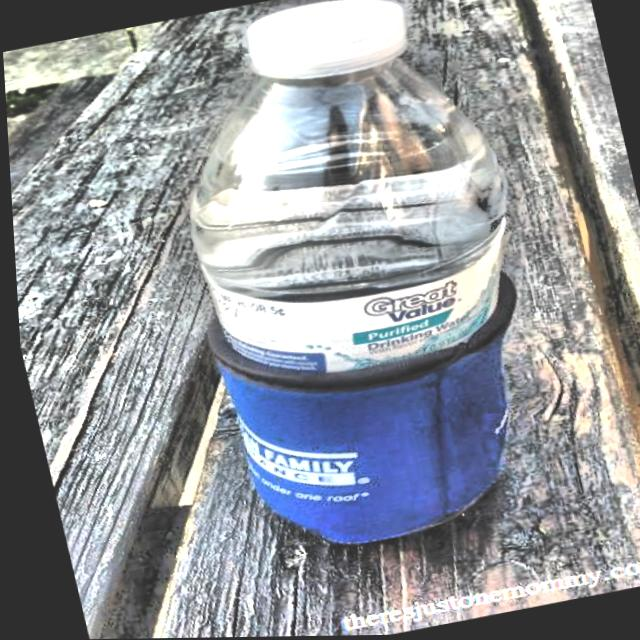Bottles: (123, 0, 566, 378)
